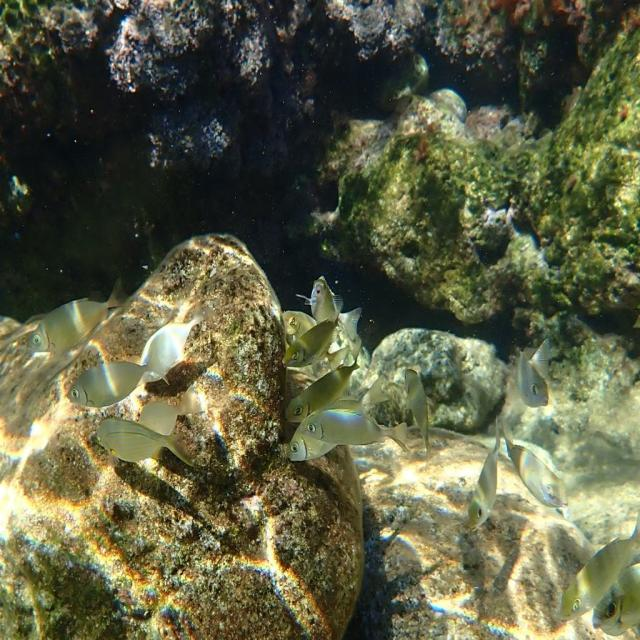Sokar Baligi: (20, 269, 134, 362), (301, 408, 417, 464)
